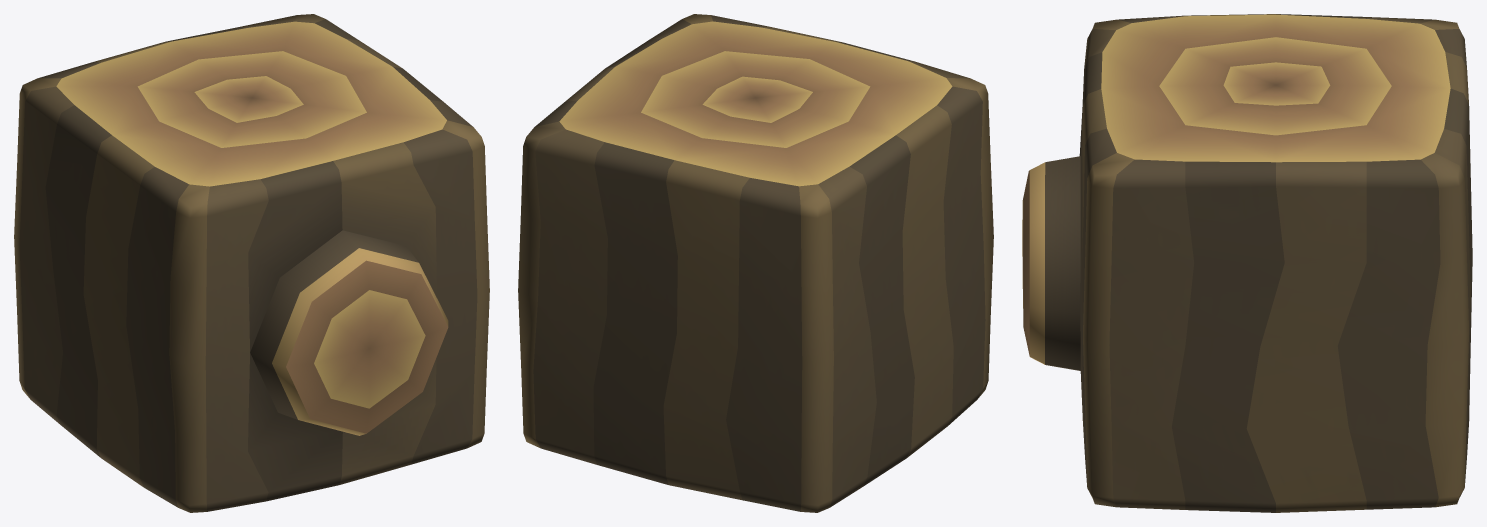
Rendered from log3_LOD_group.fbx.
The picture shows the model from 3 angles, left to right: view 1: azimuth 30°, elevation 25°; view 2: azimuth 150°, elevation 25°; view 3: azimuth 270°, elevation 25°; orthographic projection. The views are drawn at different scales.
Visible parts, largest first — view 1: log3_LOD0; view 2: log3_LOD0; view 3: log3_LOD0.
Part boxes in pixels (box(x1,y1,x2,y2)): log3_LOD0: box(14, 14, 489, 512); log3_LOD0: box(518, 14, 993, 512); log3_LOD0: box(1022, 14, 1472, 512).
Size of what is drawn, in the model's own units: 109 by 109 by 124.
Materials: 1 (1 with a texture image).
